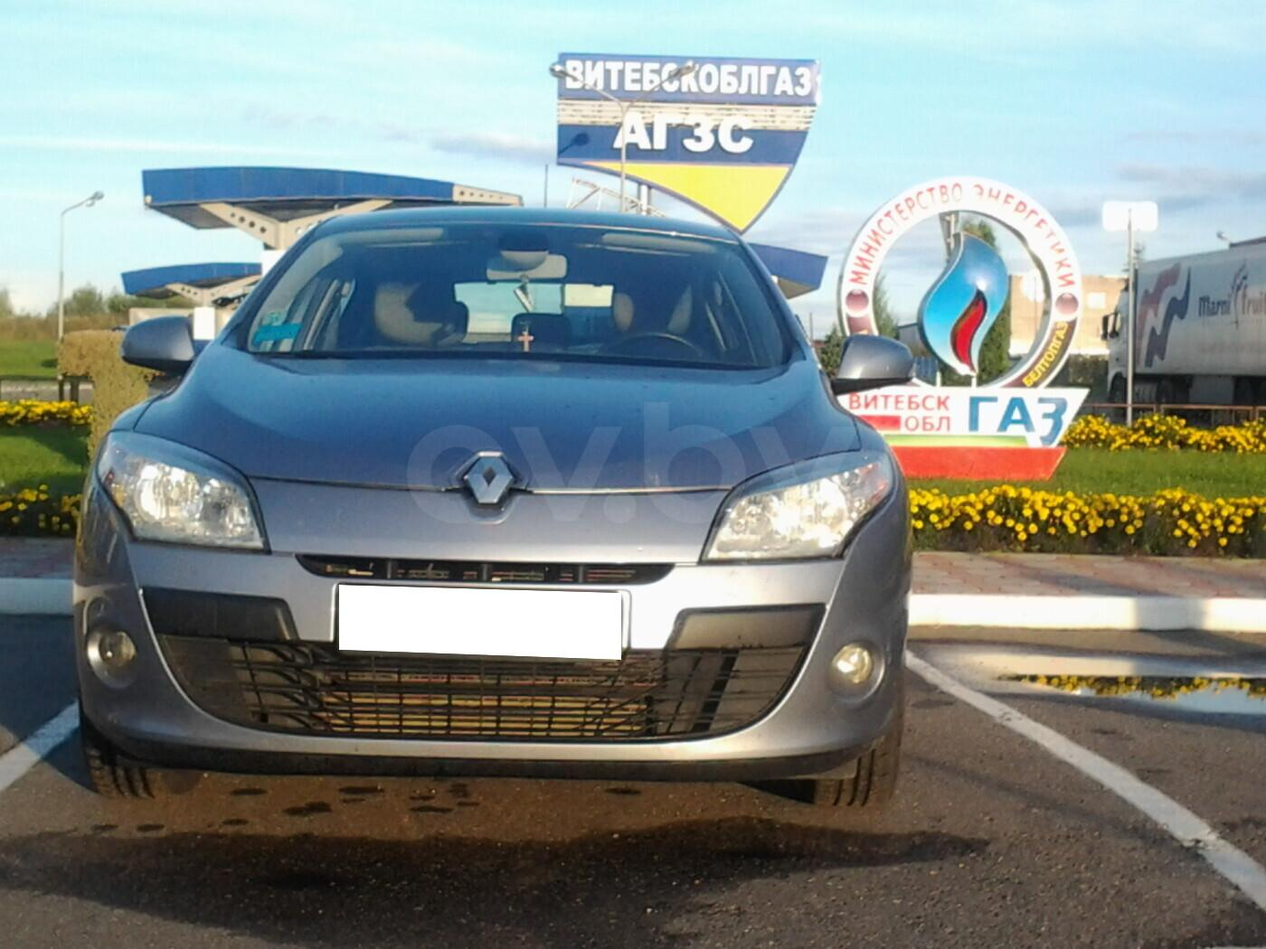Megane_2008-2014: (58, 198, 920, 830)
